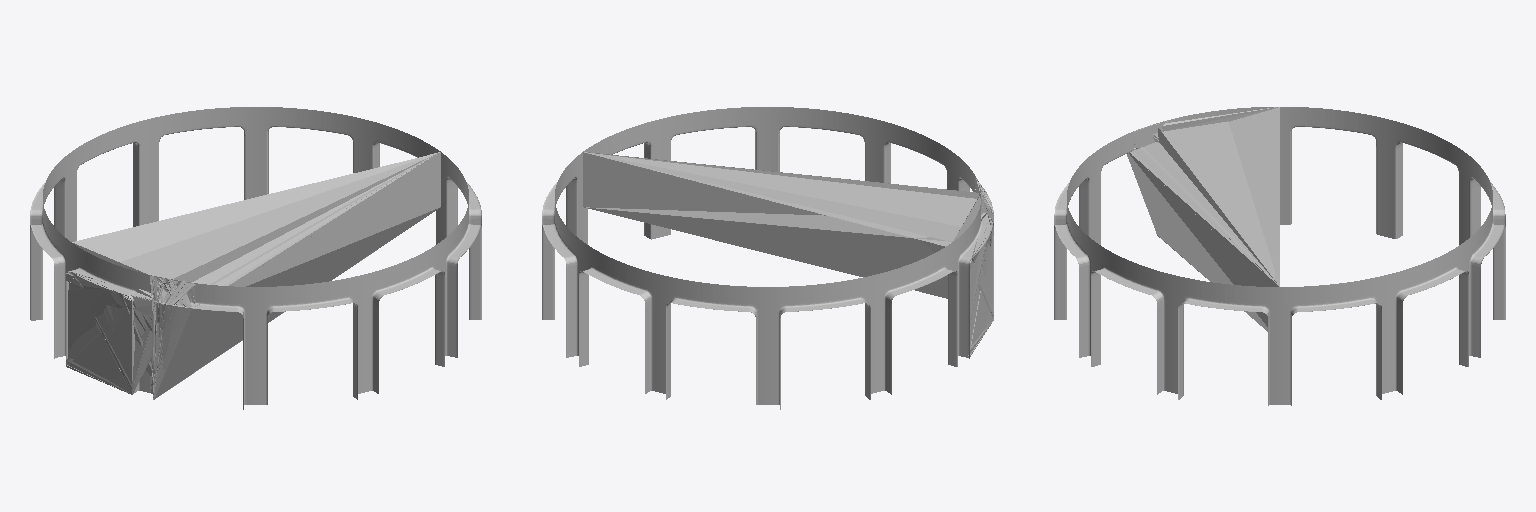
File: cartier_room.obj
3 renders of one model, left to right at view 1: azimuth 30°, elevation 25°; view 2: azimuth 150°, elevation 25°; view 3: azimuth 270°, elevation 25°, orthographic.
Visible parts, largest first — view 1: Plane035, Circle002, spotlight207, Circle001; view 2: Plane035, spotlight207, Circle001; view 3: Plane035, Circle002, Circle001, spotlight207.
Boxes of the visible parts, <box> form: Plane035: <box>30,107,481,409</box>; Circle002: <box>150,152,440,399</box>; spotlight207: <box>66,152,439,399</box>; Circle001: <box>73,153,437,319</box>; Plane035: <box>542,107,993,409</box>; spotlight207: <box>583,152,993,358</box>; Circle001: <box>585,152,993,246</box>; Plane035: <box>1054,107,1505,405</box>; Circle002: <box>1127,142,1278,331</box>; Circle001: <box>1133,107,1276,282</box>; spotlight207: <box>1133,107,1279,286</box>.
Bounding box in the file's own units: 16940 × 4891 × 16908.